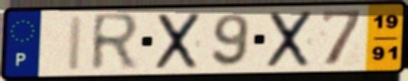7: (319, 8, 365, 68)
9: (209, 12, 251, 69)
I: (64, 14, 86, 73)
R: (89, 11, 144, 75)
X: (264, 9, 316, 70), (152, 11, 204, 72)
